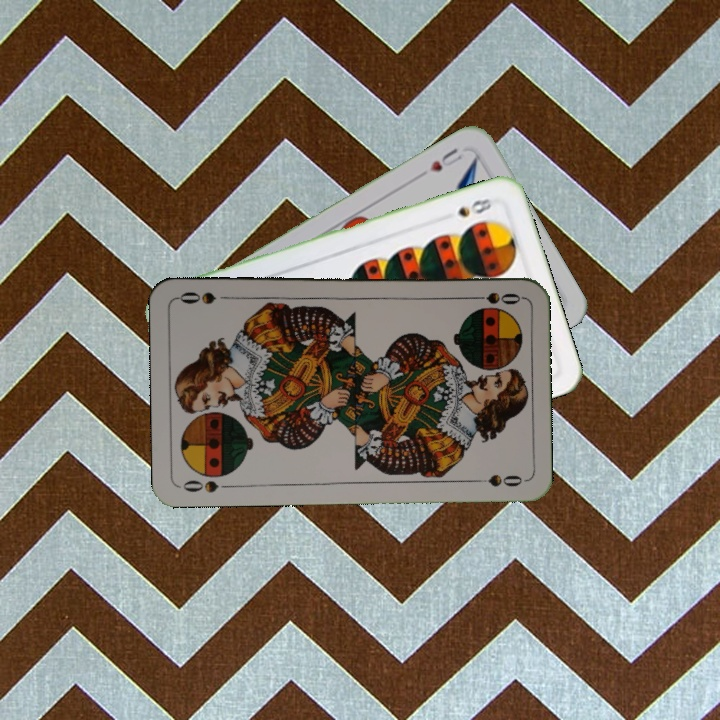HU: (425, 143, 467, 175)
S8: (454, 193, 499, 220)
SO: (464, 288, 523, 307), (179, 476, 236, 495)
